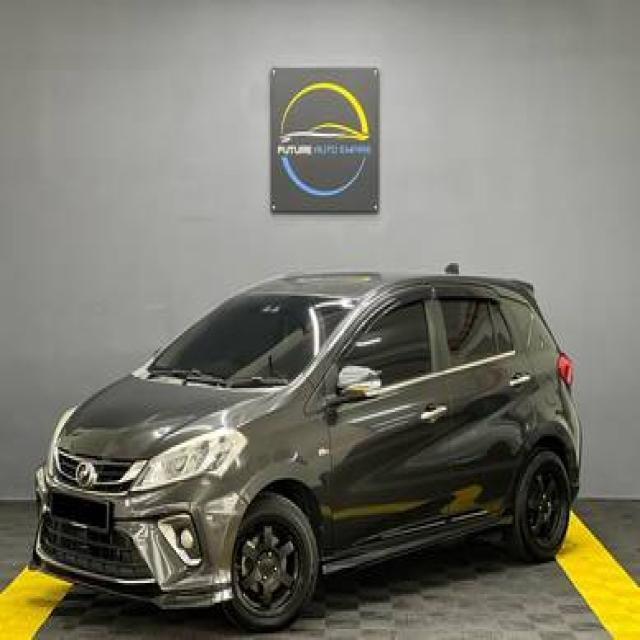PeroduaMyvi: (30, 261, 582, 631)
